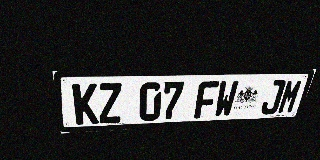0: (139, 82, 162, 121)
7: (160, 82, 184, 120)
F: (194, 81, 219, 118)
J: (259, 80, 287, 115)
K: (72, 83, 99, 125)
M: (276, 79, 304, 114)
W: (213, 81, 239, 117)
Z: (98, 83, 122, 123)
